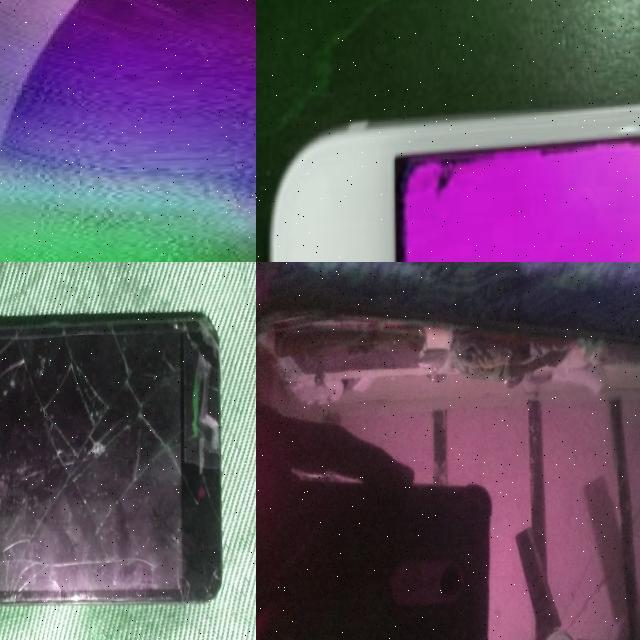screen crack: (0, 311, 231, 613), (365, 79, 640, 262), (527, 425, 640, 640)
